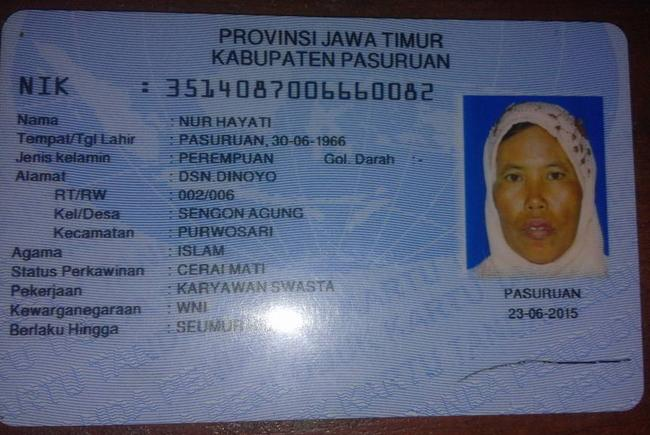ID-card: (3, 14, 643, 423)
